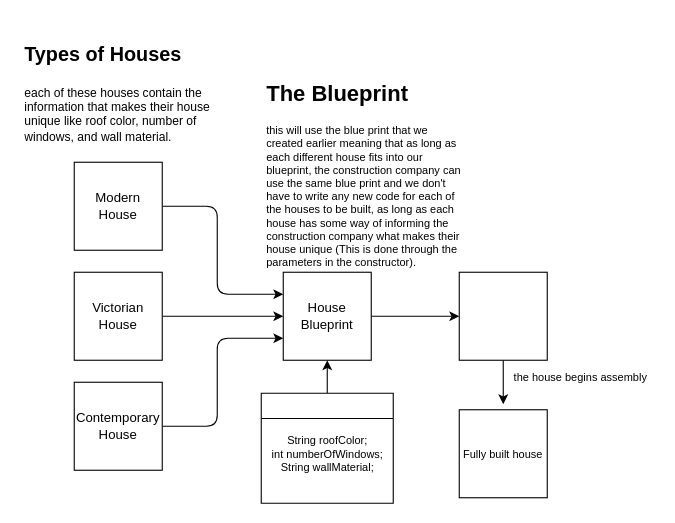
This 675x523 diagram has some shape labels left out. The box of each missing label's shape, as (x1, y1, x2, y2) in pixels:
Constructor (construction company): (458, 271, 547, 360)
House Attributes: (260, 392, 393, 503)
